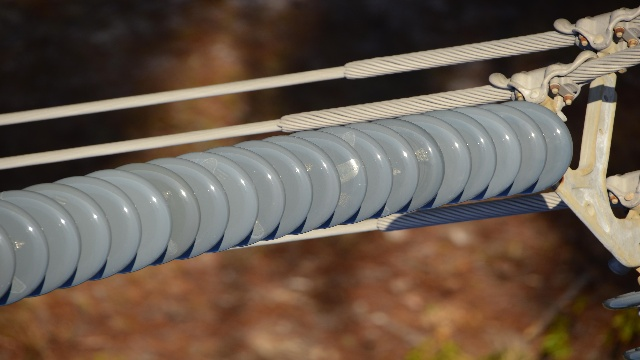insulator_unspecified: (0, 100, 574, 301)
pollution_flashover_local: (4, 272, 31, 297), (334, 157, 361, 182), (160, 237, 184, 260), (197, 156, 218, 172), (249, 220, 267, 237), (341, 132, 357, 148)
